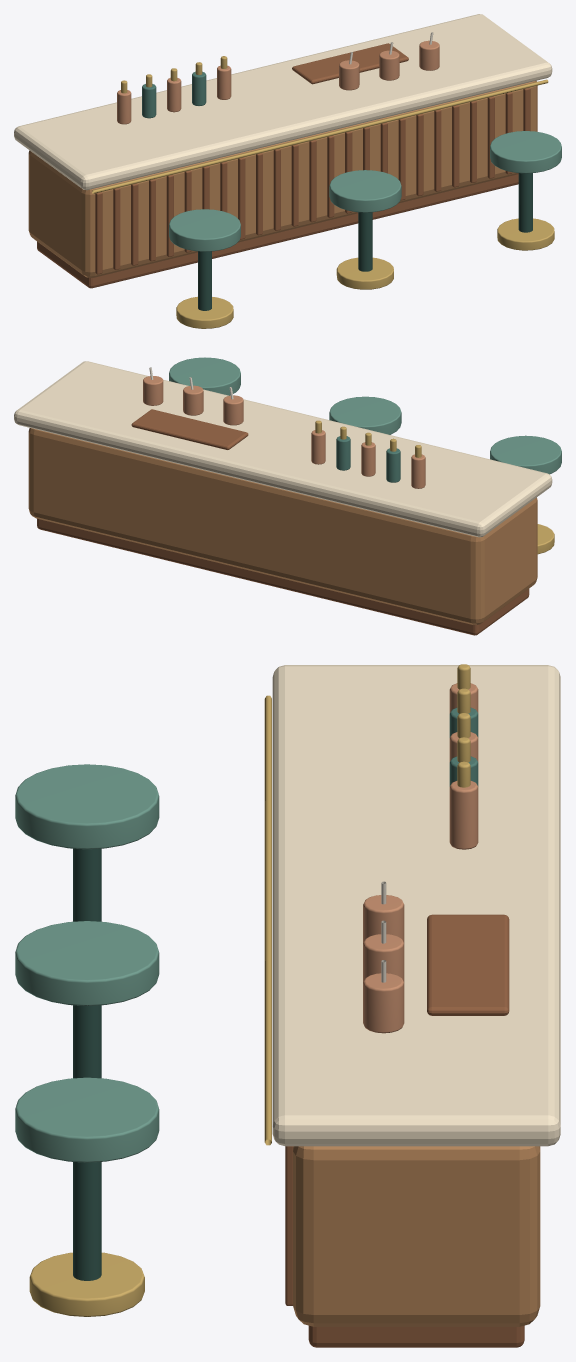
The model's file is bar-counter.glb.
3 views of the same model, one above another, from view 1: azimuth 30°, elevation 25°; view 2: azimuth 150°, elevation 25°; view 3: azimuth 270°, elevation 25° (orthographic). The views are drawn at different scales.
Visible parts, largest first — view 1: bar-counter / Ivory stone, bar-counter / Oak, bar-counter / Oak endgrain, bar-counter / Sea glass upholstery, bar-counter / Brass, bar-counter / Terracotta cushion, bar-counter / Dark hardware, bar-counter / Sea glass runner; view 2: bar-counter / Oak, bar-counter / Ivory stone, bar-counter / Oak endgrain, bar-counter / Sea glass upholstery, bar-counter / Terracotta cushion, bar-counter / Sea glass runner, bar-counter / Brass; view 3: bar-counter / Ivory stone, bar-counter / Oak, bar-counter / Sea glass upholstery, bar-counter / Oak endgrain, bar-counter / Brass, bar-counter / Terracotta cushion, bar-counter / Dark hardware, bar-counter / Sea glass runner.
Part boxes in pixels (x1=…): bar-counter / Ivory stone: x1=14, y1=14, x2=552, y2=190; bar-counter / Oak: x1=28, y1=80, x2=537, y2=277; bar-counter / Oak endgrain: x1=37, y1=43, x2=530, y2=288; bar-counter / Sea glass upholstery: x1=169, y1=131, x2=561, y2=251; bar-counter / Brass: x1=92, y1=56, x2=554, y2=328; bar-counter / Terracotta cushion: x1=117, y1=40, x2=439, y2=124; bar-counter / Dark hardware: x1=198, y1=173, x2=532, y2=310; bar-counter / Sea glass runner: x1=142, y1=71, x2=206, y2=118; bar-counter / Oak: x1=28, y1=428, x2=537, y2=624; bar-counter / Ivory stone: x1=14, y1=361, x2=552, y2=537; bar-counter / Oak endgrain: x1=37, y1=409, x2=529, y2=635; bar-counter / Sea glass upholstery: x1=169, y1=357, x2=561, y2=474; bar-counter / Terracotta cushion: x1=143, y1=376, x2=425, y2=488; bar-counter / Sea glass runner: x1=336, y1=436, x2=400, y2=482; bar-counter / Brass: x1=315, y1=420, x2=554, y2=554; bar-counter / Ivory stone: x1=272, y1=665, x2=560, y2=1146; bar-counter / Oak: x1=293, y1=1146, x2=540, y2=1326; bar-counter / Sea glass upholstery: x1=15, y1=764, x2=159, y2=1162; bar-counter / Oak endgrain: x1=285, y1=914, x2=524, y2=1347; bar-counter / Brass: x1=29, y1=664, x2=470, y2=1316; bar-counter / Terracotta cushion: x1=363, y1=683, x2=478, y2=1033; bar-counter / Dark hardware: x1=73, y1=848, x2=101, y2=1280; bar-counter / Sea glass runner: x1=449, y1=707, x2=478, y2=786.
Size of the model in its own units: 5.28 by 1.76 by 2.65.
